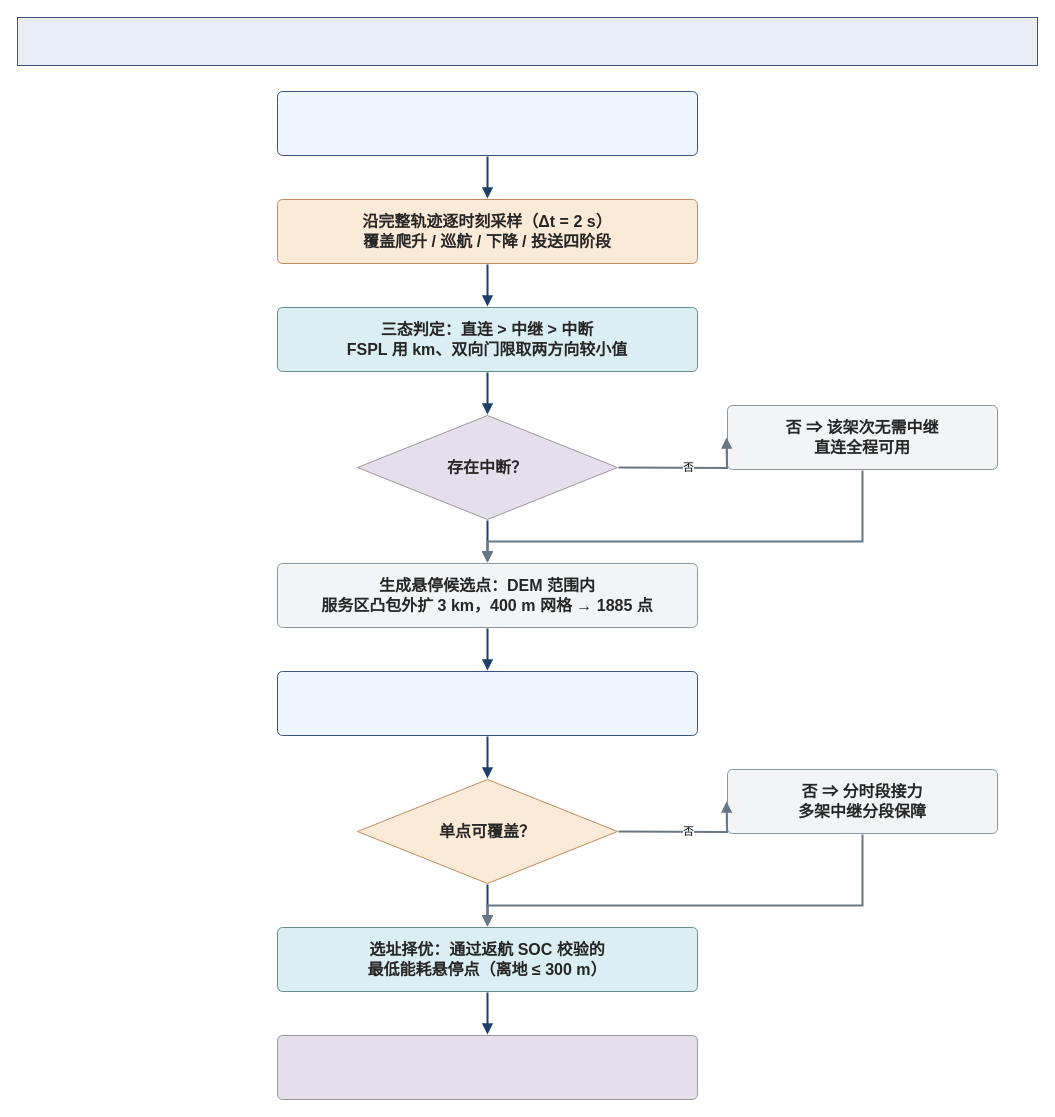
Some shapes in this 1055 by 1117 pixel diagram are drawn without their labels. The shapes that lost their labels are listed below. From the top down, each one's centre as x and y in pixels, then its label:
At [527,41]: "问题三求解流程：通信约束下运输与中继联合调度".
At [487,123]: "输入：Q2 运输方案 + 链路预算参数 中继参数 + 30 m DEM".
At [487,703]: "单点全程覆盖判定 ∀t：直连 ∨ (接入(P) ∧ 回传(P))".
At [487,1067]: "输出：14 个中继架次｜覆盖 14/14 总能耗 91.68 kWh｜联合完工 5.81 h".
